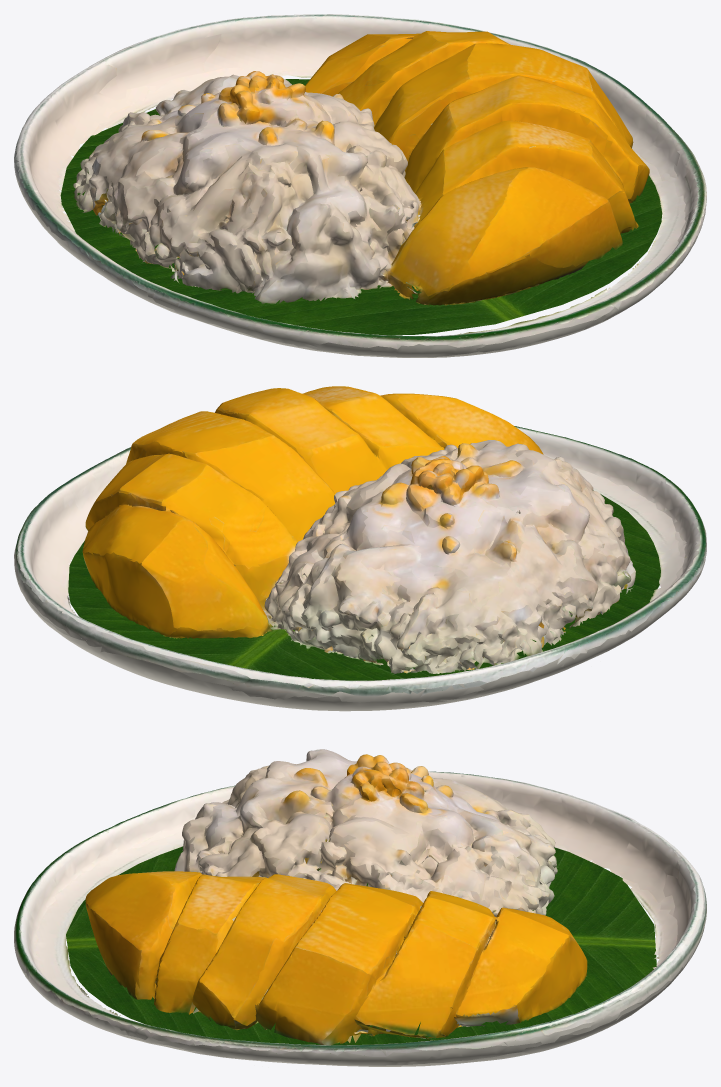
The model's file is mango-rice-0.glb.
3 renders of one model, top to bottom at view 1: azimuth 30°, elevation 25°; view 2: azimuth 150°, elevation 25°; view 3: azimuth 270°, elevation 25°, orthographic. The views are drawn at different scales.
Parts seen in each view (by area): view 1: food/independent-stage-0, canonical/ceramic, canonical/continuous-leaf-repair, canonical/underside; view 2: food/independent-stage-0, canonical/ceramic, canonical/continuous-leaf-repair, canonical/underside; view 3: food/independent-stage-0, canonical/ceramic, canonical/continuous-leaf-repair, canonical/underside.
Boxes of the visible parts, x1,y1,x2,y2 form: food/independent-stage-0: (73,31,649,305); canonical/ceramic: (14,14,706,349); canonical/continuous-leaf-repair: (60,79,662,335); canonical/underside: (15,173,706,357); food/independent-stage-0: (82,386,635,673); canonical/ceramic: (14,426,706,697); canonical/continuous-leaf-repair: (68,490,660,680); canonical/underside: (14,555,706,711); food/independent-stage-0: (85,749,587,1045); canonical/ceramic: (14,771,706,1056); canonical/continuous-leaf-repair: (66,846,656,1045); canonical/underside: (18,922,705,1066).
Bounding box in the file's own units: 2.47 × 0.6373 × 2.68.
4 materials, 3 textured.
